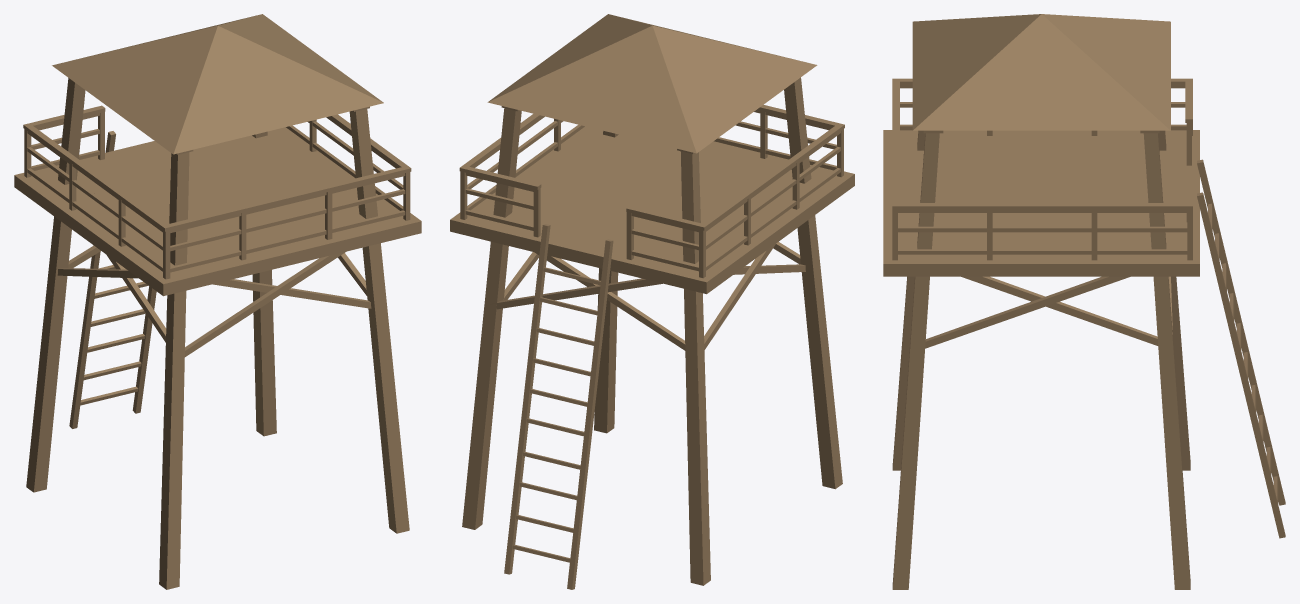
File: watchtower-04.glb
The picture shows the model from 3 angles, left to right: view 1: azimuth 30°, elevation 25°; view 2: azimuth 150°, elevation 25°; view 3: azimuth 270°, elevation 25°; orthographic projection. The views are drawn at different scales.
Parts seen in each view (by area): view 1: WatchTower_04; view 2: WatchTower_04; view 3: WatchTower_04.
Boxes of the visible parts, bbox=[...] form: WatchTower_04: bbox=[14, 14, 421, 589]; WatchTower_04: bbox=[450, 14, 854, 589]; WatchTower_04: bbox=[883, 14, 1285, 589].
Size of the model in its own units: 4.51 by 8.06 by 5.73.
